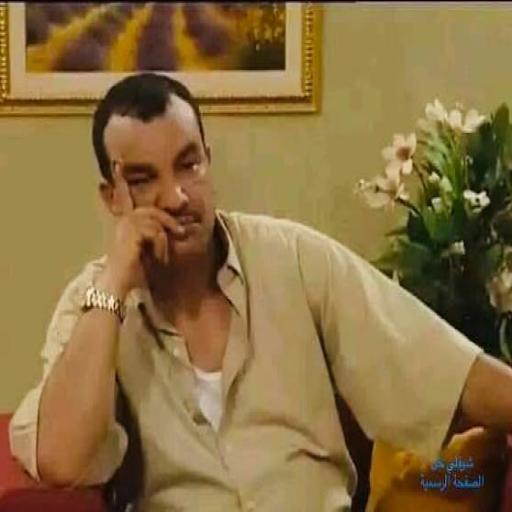slimane: (104, 96, 214, 253)
